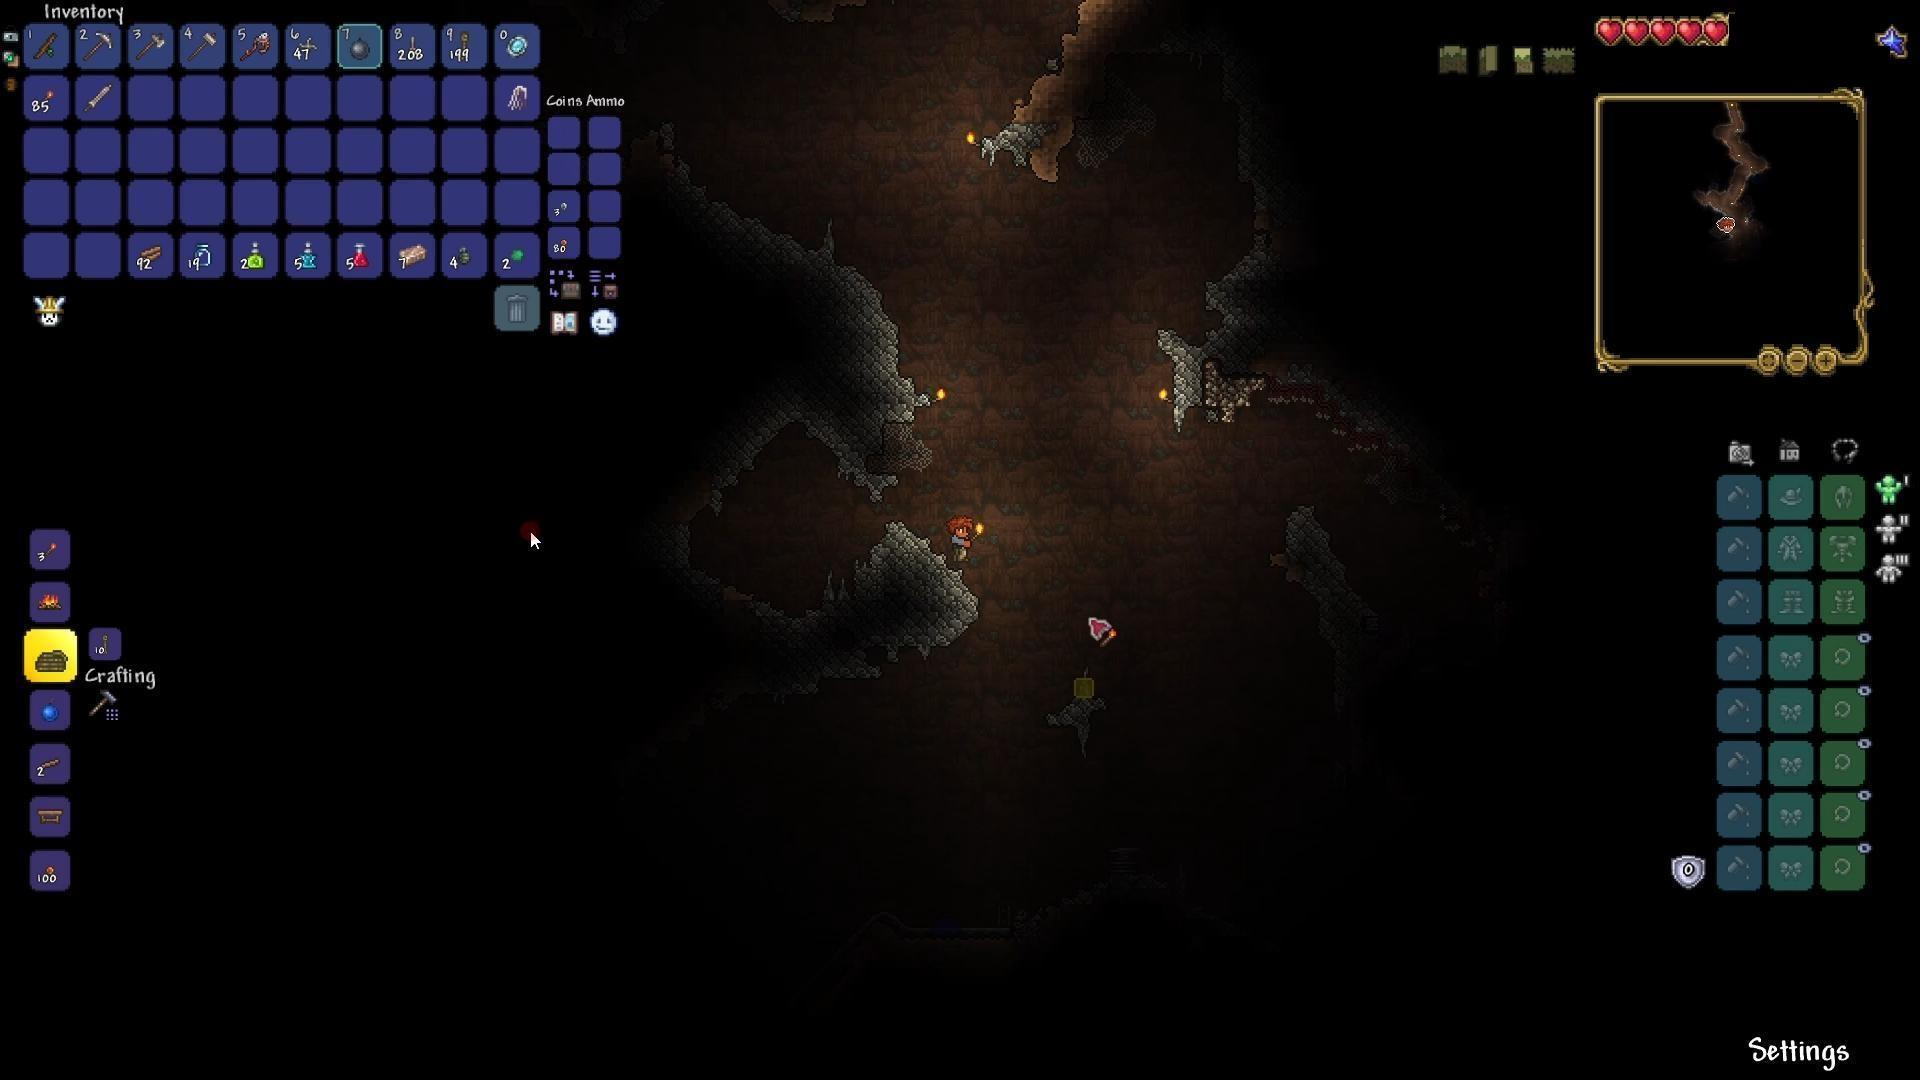heart: (1702, 17, 1733, 51), (1593, 16, 1626, 46), (1676, 15, 1704, 50), (1650, 16, 1676, 49), (1625, 15, 1651, 44)
stone: (777, 255, 920, 390), (837, 522, 971, 655), (1270, 487, 1362, 626), (678, 183, 781, 264), (802, 392, 880, 488), (709, 410, 785, 500), (1208, 237, 1266, 310), (1164, 322, 1197, 419), (982, 125, 1040, 170)
